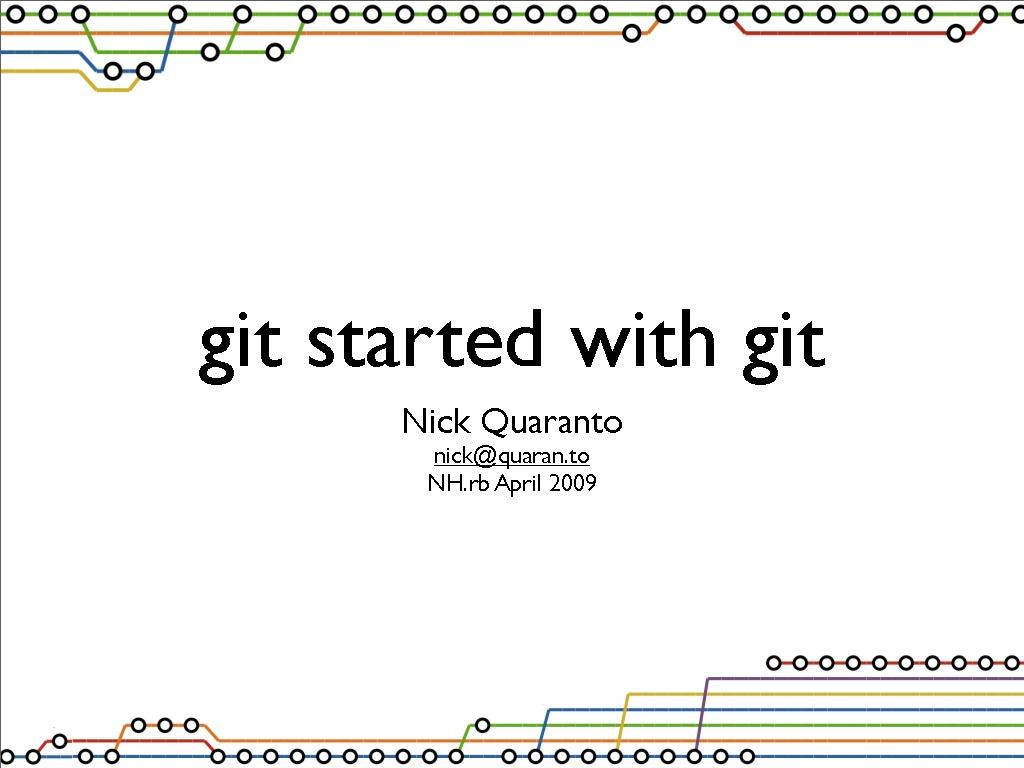subtitle: (393, 408, 652, 501)
title: (162, 292, 848, 400)
